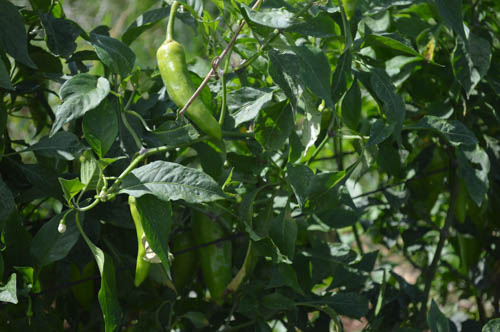ChiliPepper: (154, 44, 218, 137), (192, 209, 237, 300), (166, 238, 189, 284)
